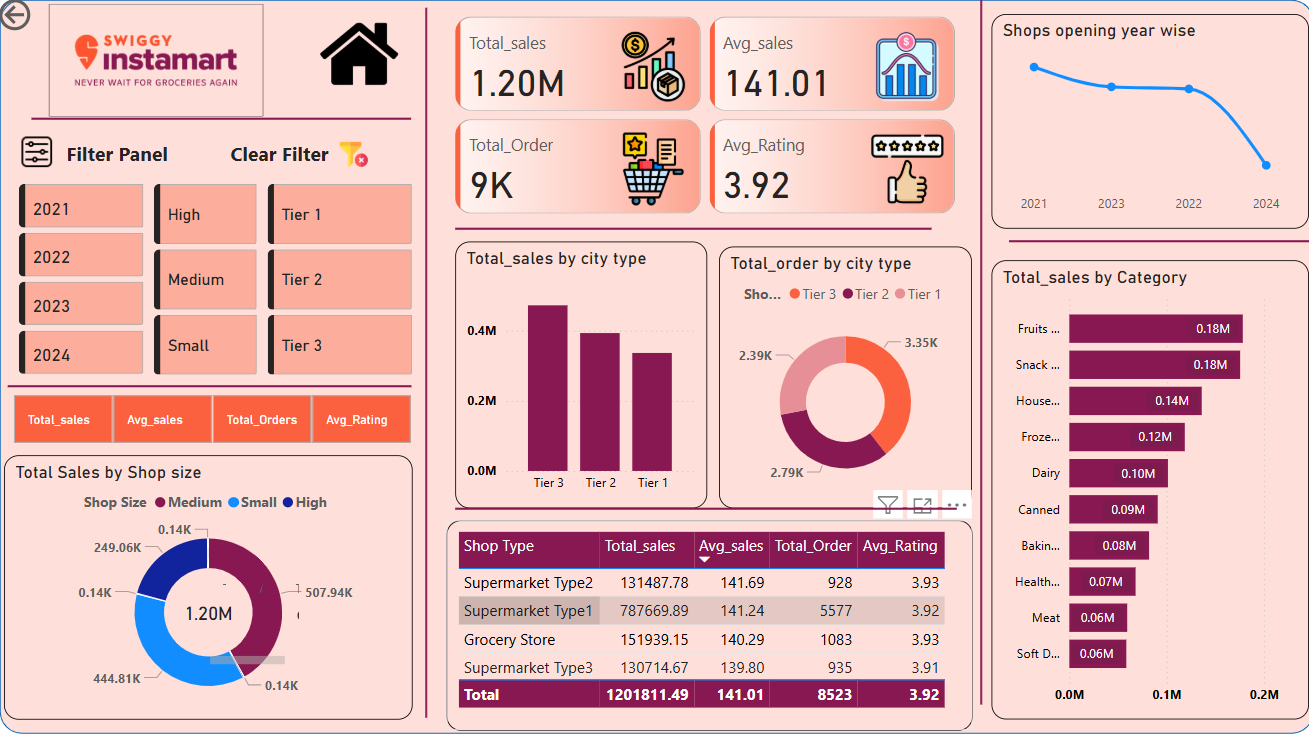

The dashboard page shown, as its layout file describes it:
{"tool":"powerbi","page":{"name":"Instamart Dashboard","canvas":[1280,720],"ordinal":0},"visuals":[{"type":"shape","box":[0,0,1280.3,720.4],"z":0},{"type":"image","box":[9.6,0,294.8,118],"z":1000},{"type":"advancedSlicerVisual","fields":{"Values":["Metric.Parameter"]},"box":[14.8,382,395.2,56.3],"z":2000},{"type":"donutChart","title":"Total Sales by Shop size","fields":{"Y":["Grocery Shop.Total_sales","Grocery Shop.Avg_sales","Grocery Shop.Total_Orders","Grocery Shop.Avg_Rating"],"Category":["Grocery Shop.Shop Size"]},"box":[9.6,444.6,394.1,255.2],"z":3000},{"type":"cardVisual","fields":{"Data":["Grocery Shop.Total_sales","Grocery Shop.Avg_sales","Grocery Shop.Total_Orders","Grocery Shop.Avg_Rating"]},"box":[204.5,540.7,108.4,113.9],"z":4000},{"type":"clusteredColumnChart","title":"Total_sales by city type","fields":{"Category":["Grocery Shop.Shop City Type"],"Y":["Grocery Shop.Total_sales"]},"box":[444.6,238.8,242.9,258],"z":5000},{"type":"donutChart","title":"Total_order by city type","fields":{"Category":["Grocery Shop.Shop City Type"],"Y":["Grocery Shop.Total_Orders"]},"box":[699.8,244.3,244.3,252.5],"z":6000},{"type":"lineChart","title":"Shops opening year wise","fields":{"Category":["Grocery Shop.Shop Opening Year"],"Y":["Grocery Shop.Total_Order"]},"box":[962.7,19.2,306.6,207.2],"z":7000},{"type":"actionButton","box":[0,0,100,40],"z":8000},{"type":"clusteredBarChart","fields":{"Category":["Grocery Shop.Category"],"Y":["Grocery Shop.Total_sales"]},"box":[963.3,256.6,306,443.2],"z":9000},{"type":"advancedSlicerVisual","fields":{"Values":["Grocery Shop.Shop Opening Year"]},"box":[19.2,178.4,130.4,194.9],"z":10000},{"type":"advancedSlicerVisual","fields":{"Values":["Grocery Shop.Shop Size"]},"box":[149.6,178.4,109.8,194.9],"z":11000},{"type":"advancedSlicerVisual","fields":{"Values":["Grocery Shop.Shop City Type"]},"box":[259.3,178.4,149.6,194.9],"z":12000},{"type":"tableEx","fields":{"Values":["Grocery Shop.Shop Type","Grocery Shop.Total_sales","Grocery Shop.Avg_sales","Grocery Shop.Total_Orders","Grocery Shop.Avg_Rating"]},"box":[436.4,507.7,507.7,203.1],"z":13000},{"type":"textbox","box":[49.4,135.8,161.9,37],"z":14000},{"type":"image","box":[19.2,133.1,43.9,39.8],"z":15000},{"type":"textbox","box":[223.7,135.8,185.2,42.5],"z":16000},{"type":"image","box":[325.2,135.8,43.9,37],"z":17000},{"type":"image","box":[309.8,12.3,85.1,90.6],"z":18000},{"type":"shape","box":[35.7,102.9,366.7,35.7],"z":19000},{"type":"shape","box":[12.9,360.9,389.7,35.7],"z":20000},{"type":"shape","box":[369.1,13.7,96.1,685.6],"z":21000},{"type":"shape","box":[904.3,0,96.1,686.1],"z":22000},{"type":"shape","box":[979.8,220.9,289.5,35.7],"z":23000},{"type":"shape","box":[444.6,478.9,484.4,35.7],"z":24000},{"type":"shape","box":[444.6,208.6,459.7,35.7],"z":25000},{"type":"card","fields":{"Values":["Grocery Shop.Total_sales"]},"box":[175.6,570.8,61.7,54.9],"z":26000},{"type":"cardVisual","title":"Total Sales by Shop size","fields":{"Data":["Grocery Shop.Total_sales","Grocery Shop.Avg_sales","Grocery Shop.Total_Order","Grocery Shop.Avg_Rating"]},"box":[440.5,16.5,492.6,201.7],"z":27000}]}

Visuals, with their boxes in screenshot pixels (x1, y1, x2, y2), scaled from the page's 1280x720 canvas onto the 1309x735 screenshot:
shape: 0:0:1308:734
image: 10:0:311:120
advancedSlicerVisual - Metric.Parameter: 15:390:419:447
"Total Sales by Shop size" donutChart: 10:454:413:714
cardVisual - Grocery Shop.Total_sales x Grocery Shop.Avg_sales: 209:552:320:668
"Total_sales by city type" clusteredColumnChart: 455:244:703:507
"Total_order by city type" donutChart: 716:249:965:507
"Shops opening year wise" lineChart: 985:20:1298:231
actionButton: 0:0:102:41
clusteredBarChart - Grocery Shop.Category x Grocery Shop.Total_sales: 985:262:1298:714
advancedSlicerVisual - Grocery Shop.Shop Opening Year: 20:182:153:381
advancedSlicerVisual - Grocery Shop.Shop Size: 153:182:265:381
advancedSlicerVisual - Grocery Shop.Shop City Type: 265:182:418:381
tableEx - Grocery Shop.Shop Type x Grocery Shop.Total_sales: 446:518:965:726
textbox: 51:139:216:176
image: 20:136:65:177
textbox: 229:139:418:182
image: 333:139:377:176
image: 317:13:404:105
shape: 37:105:412:141
shape: 13:368:412:405
shape: 377:14:476:714
shape: 925:0:1023:700
shape: 1002:226:1298:262
shape: 455:489:950:525
shape: 455:213:925:249
card - Grocery Shop.Total_sales: 180:583:243:639
"Total Sales by Shop size" cardVisual: 450:17:954:223
